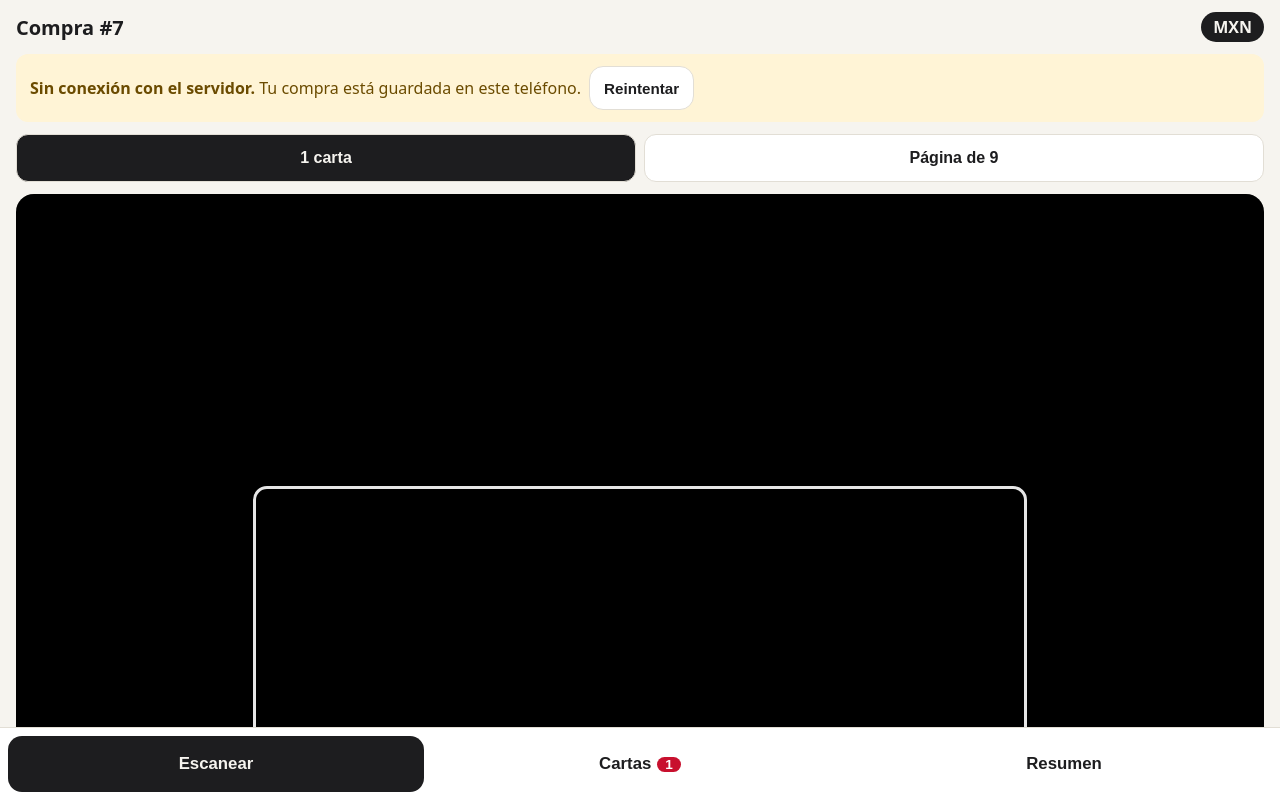
Test: server connection drops › shows a notice and keeps the session on the phone
Expected: the message shows "Sin conexión con el servidor", 30,76 -> 255,98
Expected: the message shows "Tu compra está guardada en este teléfono", 259,76 -> 577,98
What coordinates should you click on to do the following:
click the button "Resumen"
I would click on:
 (1064, 764)
Its box is 856,736 -> 1272,792.
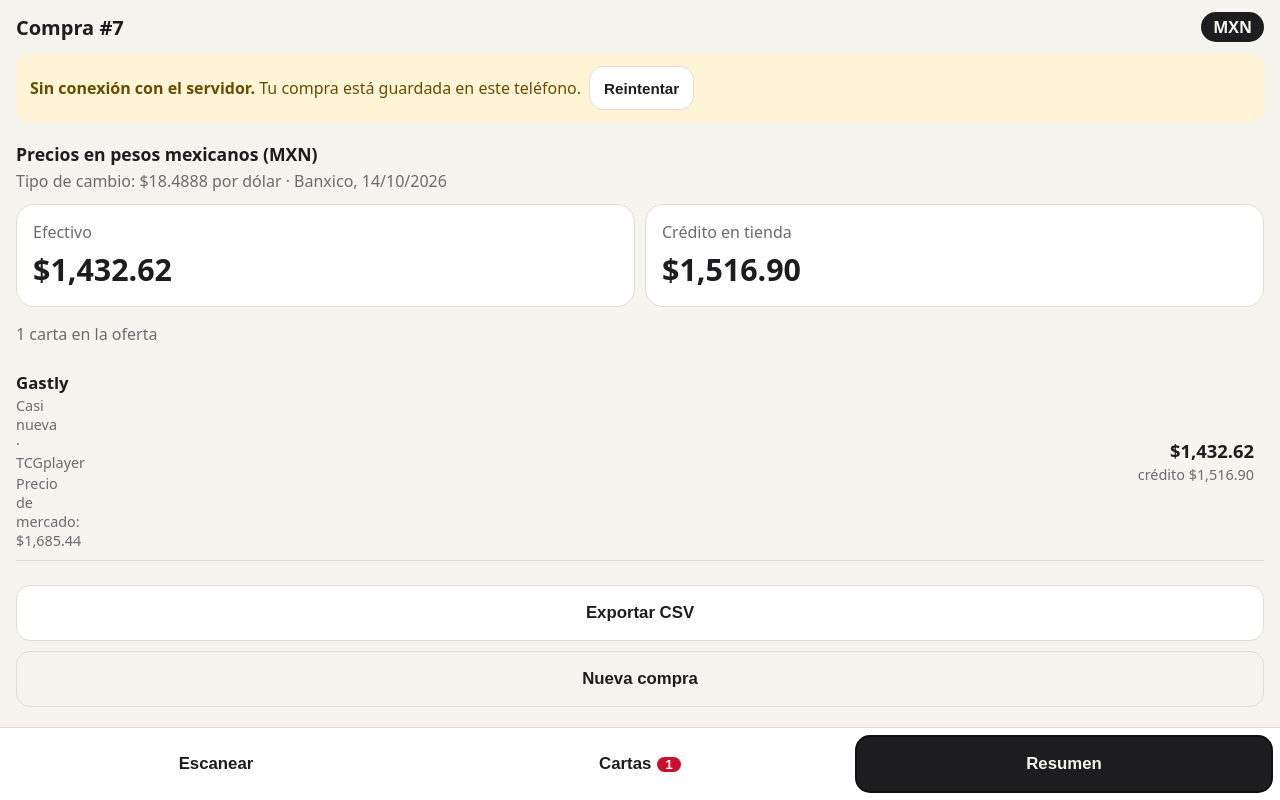
Now the text with test id "total-cash" reads "$1,432.62", box 33,249 -> 172,290
